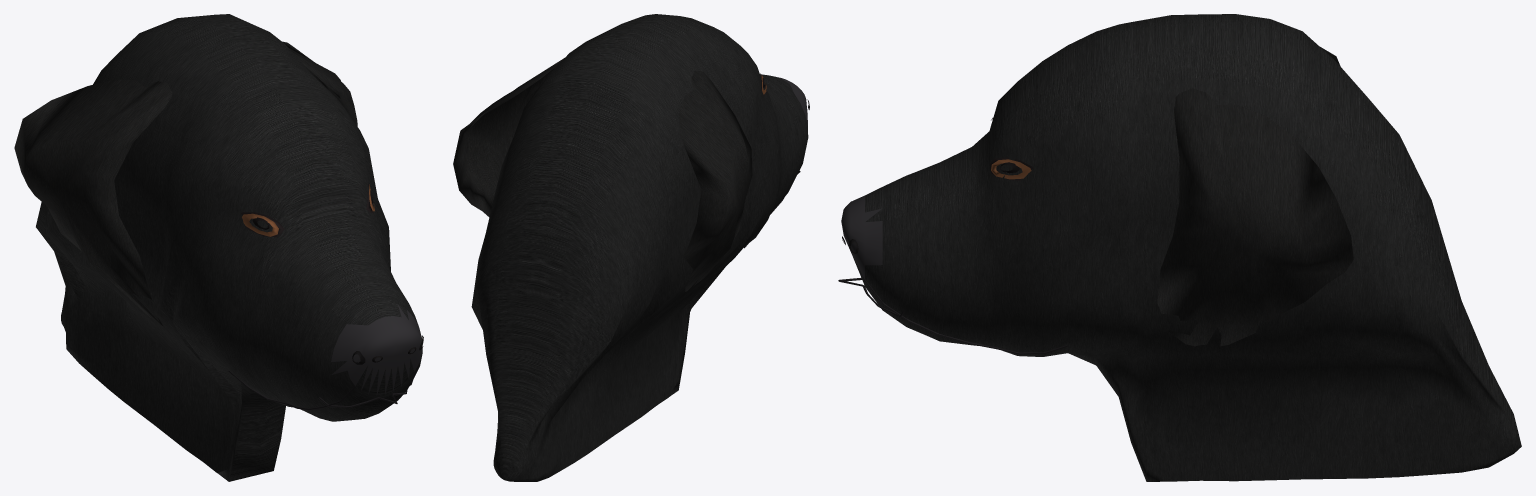
The model's file is labrador_head_low_poly.glb.
The picture shows the model from 3 angles, left to right: view 1: azimuth 30°, elevation 25°; view 2: azimuth 150°, elevation 25°; view 3: azimuth 270°, elevation 25°; orthographic projection. The views are drawn at different scales.
Parts seen in each view (by area): view 1: labrador_head_low_poly; view 2: labrador_head_low_poly; view 3: labrador_head_low_poly.
Boxes of the visible parts, x1,y1,x2,y2 form: labrador_head_low_poly: (14, 14, 423, 481); labrador_head_low_poly: (453, 14, 809, 481); labrador_head_low_poly: (838, 14, 1521, 481).
Size of the model in its own units: 0.1722 by 0.2282 by 0.3163.
Materials: 7 (2 with a texture image).
